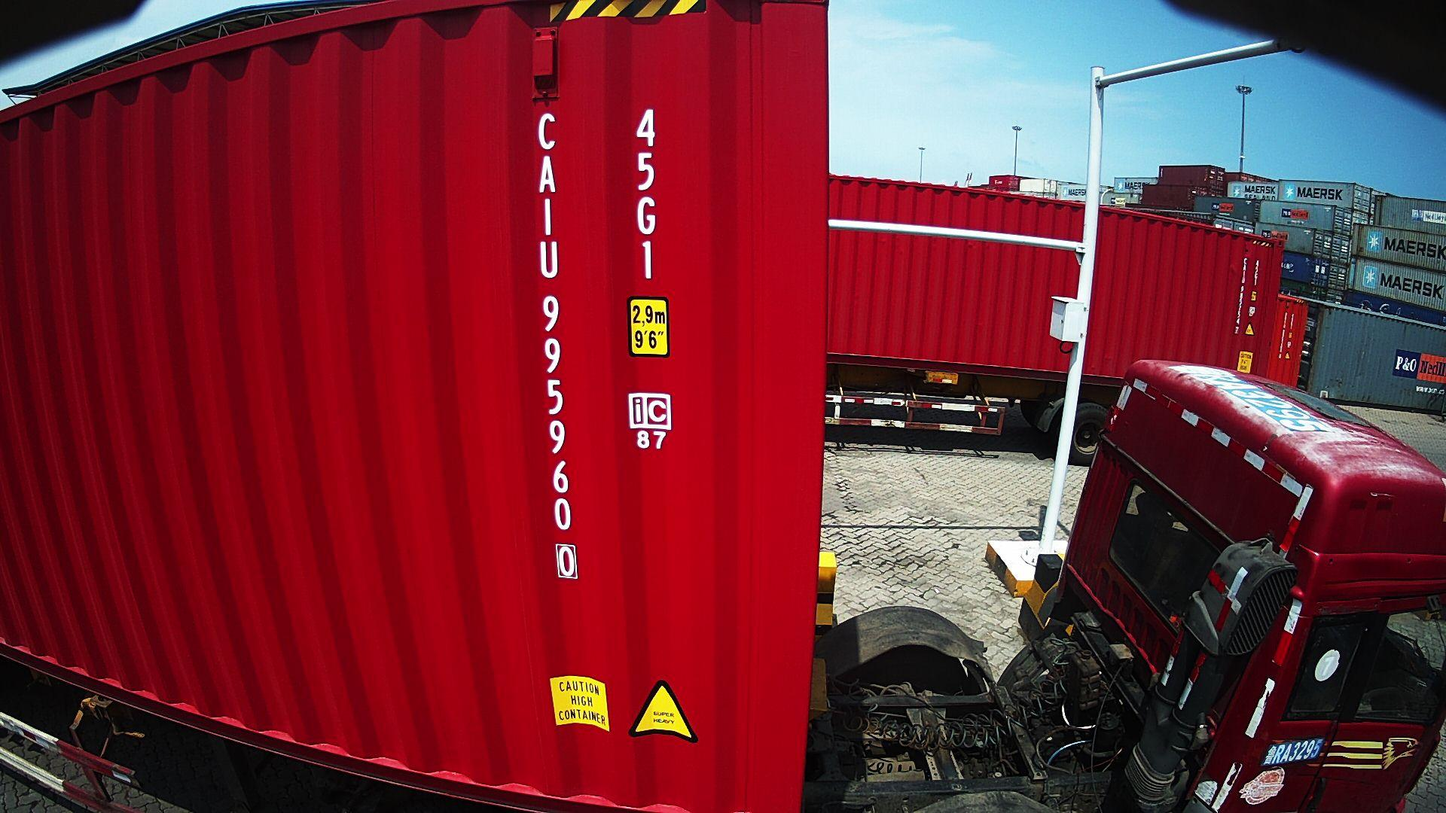container-numbers: (531, 107, 581, 583), (631, 105, 666, 284)
